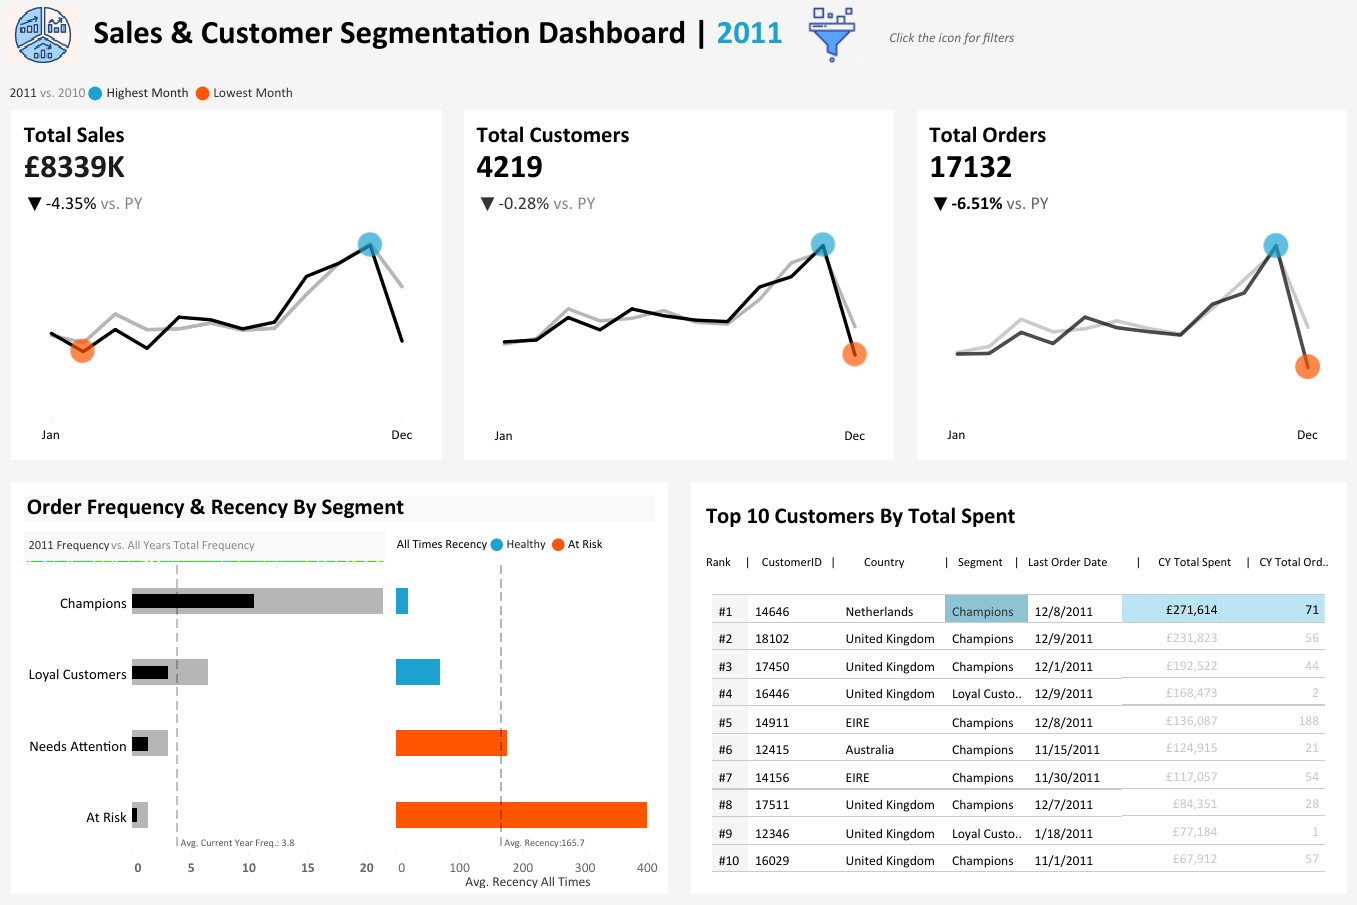

The page's visual inventory and layout, read from the dashboard file:
{"tool":"tableau","page":{"name":"Customer Dashboard","canvas":[1200,800],"ordinal":0},"visuals":[{"type":"image","param":"C:/Users/aykut/Masaüstü/dash1.png","box":[0,0,76.2,62]},{"type":"text","box":[76.2,0,803.7,62]},{"type":"blank","box":[880,0,49,62]},{"type":"text","box":[929,0,271,62]},{"type":"dashboard-object","box":[870,2,62,62]},{"type":"text","box":[970,10,217,32]},{"type":"parameter","param":"[Parameters].[Parameter 1]","box":[970,42,217,54]},{"type":"worksheet","title":"Legend KPI","mark":"Automatic","box":[0,62,1200,35]},{"type":"blank","box":[970,96,217,22]},{"type":"worksheet","title":"KPI Sales","mark":"Automatic","rows":["Calculation_1447625859468656676"],"cols":["invoicedate"],"box":[0,97,400,319]},{"type":"worksheet","title":"KPI Customers","mark":"Line","rows":["Calculation_1447625859451519003"],"cols":["invoicedate"],"box":[400,97,400,319]},{"type":"worksheet","title":"KPI Total Orders","mark":"Line","rows":["Calculation_1119988988787810312"],"cols":["invoicedate"],"box":[800,97,400,319]},{"type":"text","box":[970,118,217,33]},{"type":"filter","title":"KPI Sales","param":"[federated.06ur6za0eov6i91cajbk417j2gji].[none:segment:nk]","box":[970,151,217,59]},{"type":"blank","box":[970,210,217,32]},{"type":"text","box":[970,242,217,32]},{"type":"filter","title":"KPI Sales","param":"[federated.06ur6za0eov6i91cajbk417j2gji].[none:country:nk]","box":[970,274,217,59]},{"type":"text","box":[17,433,566,32]},{"type":"text","box":[617,433,566,48]},{"type":"worksheet","title":"Legend Order Frequency","mark":"Automatic","box":[17,465,327,34]},{"type":"text","box":[344,465,239,34]},{"type":"text","box":[617,481,566,32]},{"type":"worksheet","title":"Frequency & Recency","mark":"Bar","rows":["segment"],"cols":["Calculation_1275926124089282563","Calculation_1275926124088819714","Calculation_1712775291714428932"],"box":[17,499,566,284]},{"type":"worksheet","title":"Top Customers","mark":"Automatic","rows":["Calculation_711568797498945538","customerid","country","segment","invoicedate"],"box":[617,513,566,270]}]}

Visuals, with their boxes in screenshot pixels (x1, y1, x2, y2), scaled from the page's 1200x800 canvas onto the 1357x905 screenshot:
image: {"x1": 0, "y1": 0, "x2": 86, "y2": 70}
text: {"x1": 86, "y1": 0, "x2": 995, "y2": 70}
blank: {"x1": 995, "y1": 0, "x2": 1051, "y2": 70}
text: {"x1": 1051, "y1": 0, "x2": 1356, "y2": 70}
dashboard-object: {"x1": 984, "y1": 2, "x2": 1054, "y2": 72}
text: {"x1": 1097, "y1": 11, "x2": 1342, "y2": 48}
parameter: {"x1": 1097, "y1": 48, "x2": 1342, "y2": 109}
"Legend KPI" worksheet: {"x1": 0, "y1": 70, "x2": 1356, "y2": 110}
blank: {"x1": 1097, "y1": 109, "x2": 1342, "y2": 133}
"KPI Sales" worksheet: {"x1": 0, "y1": 110, "x2": 452, "y2": 471}
"KPI Customers" worksheet (Line marks): {"x1": 452, "y1": 110, "x2": 905, "y2": 471}
"KPI Total Orders" worksheet (Line marks): {"x1": 905, "y1": 110, "x2": 1356, "y2": 471}
text: {"x1": 1097, "y1": 133, "x2": 1342, "y2": 171}
"KPI Sales" filter: {"x1": 1097, "y1": 171, "x2": 1342, "y2": 238}
blank: {"x1": 1097, "y1": 238, "x2": 1342, "y2": 274}
text: {"x1": 1097, "y1": 274, "x2": 1342, "y2": 310}
"KPI Sales" filter: {"x1": 1097, "y1": 310, "x2": 1342, "y2": 377}
text: {"x1": 19, "y1": 490, "x2": 659, "y2": 526}
text: {"x1": 698, "y1": 490, "x2": 1338, "y2": 544}
"Legend Order Frequency" worksheet: {"x1": 19, "y1": 526, "x2": 389, "y2": 564}
text: {"x1": 389, "y1": 526, "x2": 659, "y2": 564}
text: {"x1": 698, "y1": 544, "x2": 1338, "y2": 580}
"Frequency & Recency" worksheet (Bar marks): {"x1": 19, "y1": 564, "x2": 659, "y2": 886}
"Top Customers" worksheet: {"x1": 698, "y1": 580, "x2": 1338, "y2": 886}
